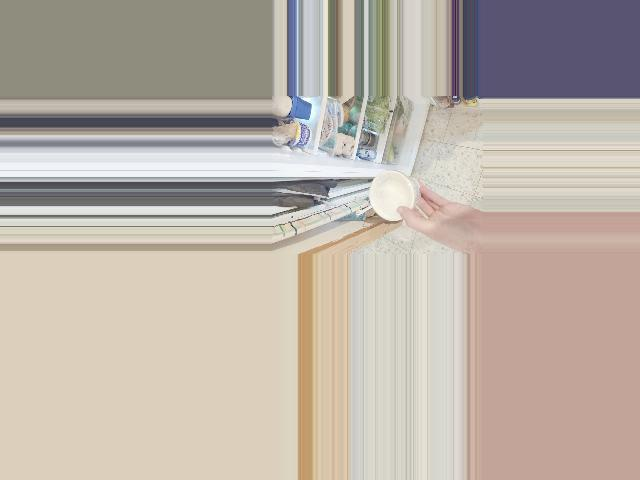cotage: (367, 171, 422, 215)
